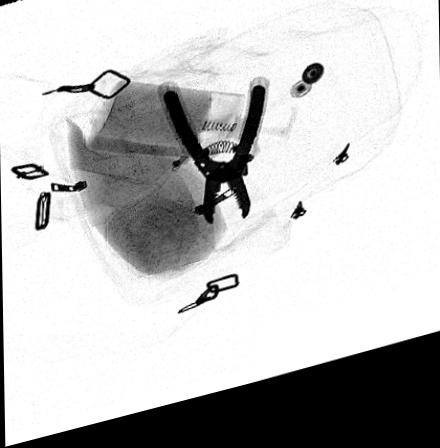Pliers: (160, 96, 263, 235)
